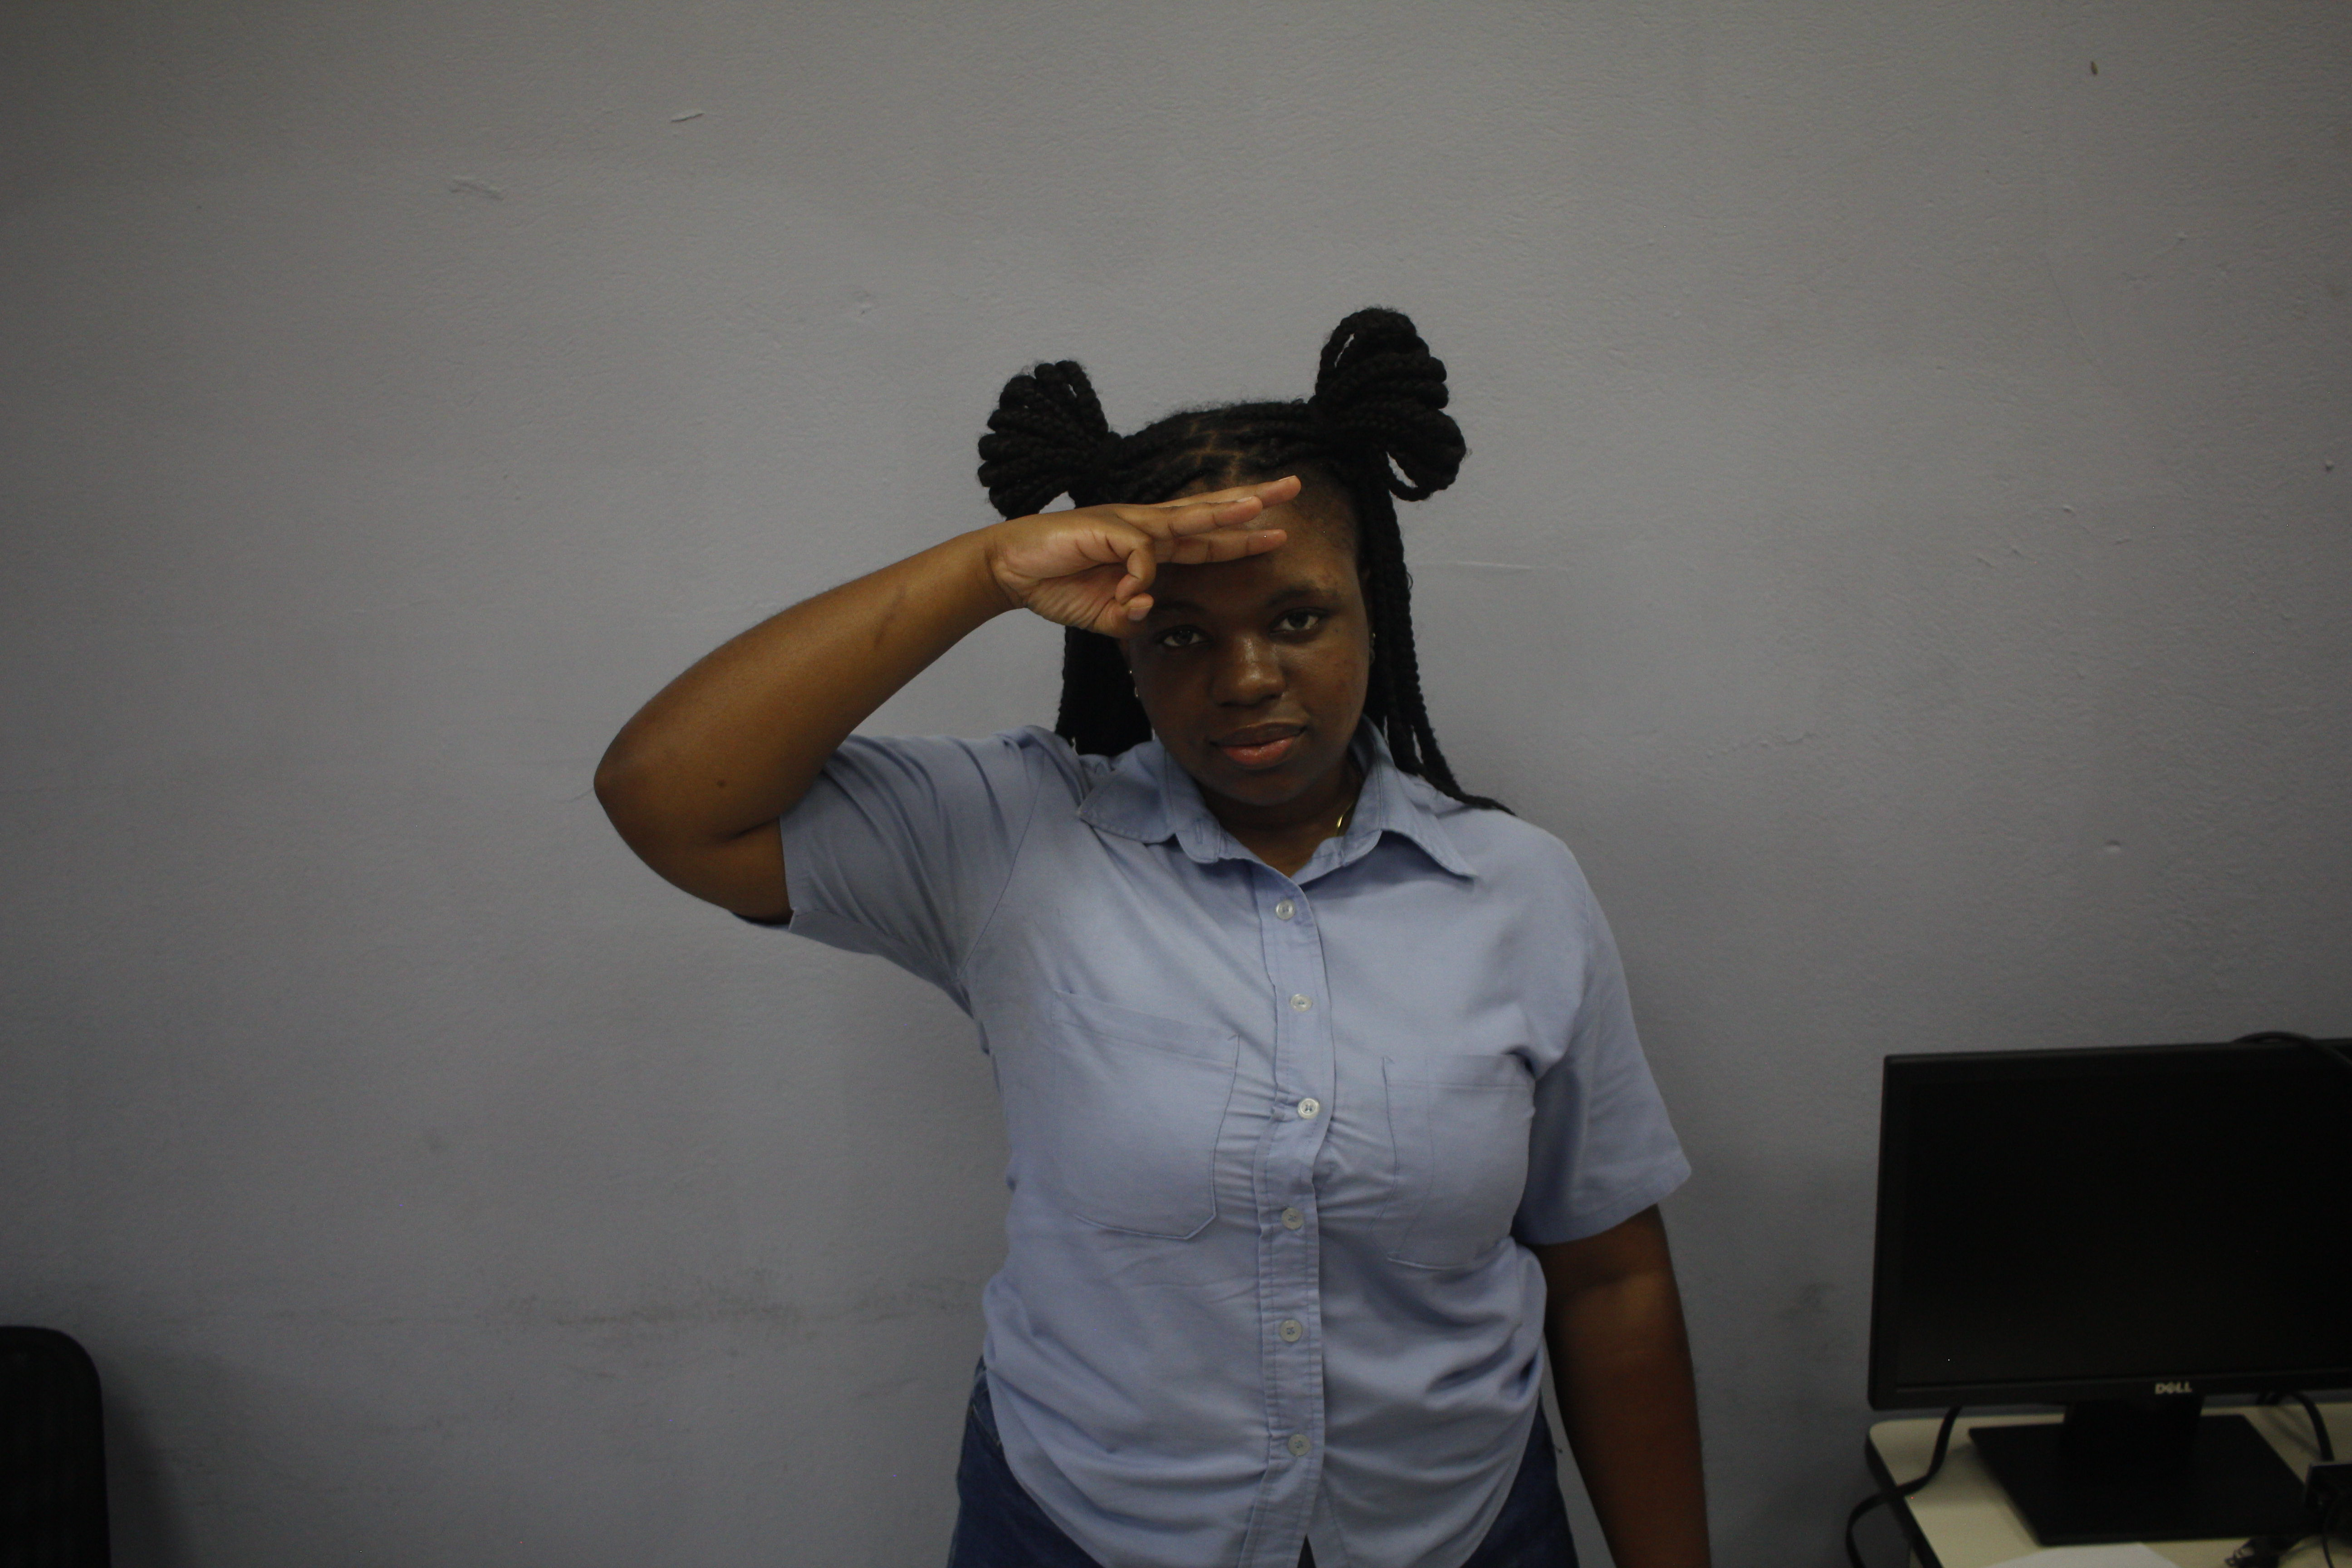you are welcome: (985, 464, 1321, 647)
